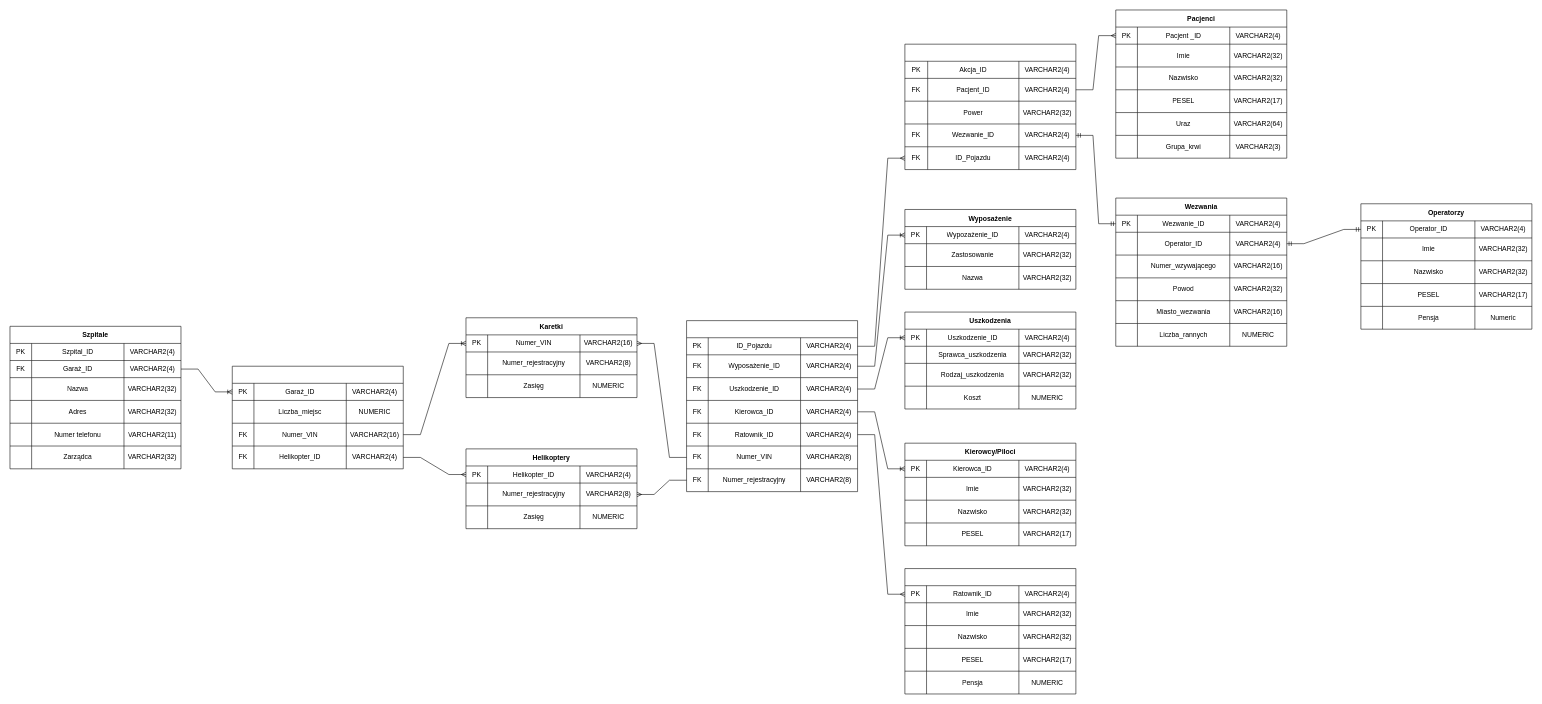
This 1542x704 diagram has some shape labels left out. The box of each missing label's shape, as (x1, y1, x2, y2) in pixels:
Garaże: (232, 366, 403, 469)
Pojazdy: (686, 320, 858, 492)
Ratownicy: (904, 568, 1076, 694)
Wyjazdy/Wyloty: (904, 44, 1076, 170)
